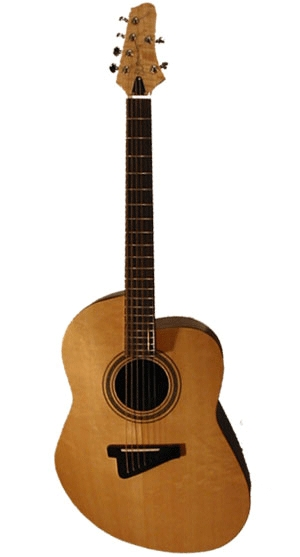guitar: (48, 3, 252, 554)
